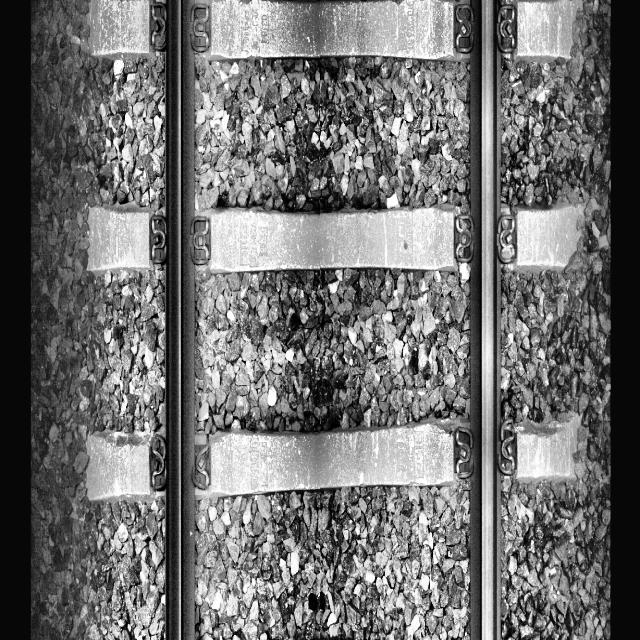Clips: (192, 435, 211, 491), (190, 4, 212, 52), (496, 214, 518, 262), (453, 4, 474, 53), (455, 425, 474, 479), (496, 5, 517, 53), (454, 214, 474, 263), (499, 419, 516, 476), (190, 216, 210, 264), (149, 434, 166, 488), (150, 2, 167, 48), (150, 215, 166, 262)
Sleepers: (87, 203, 579, 272), (84, 424, 575, 493), (88, 0, 583, 58)
